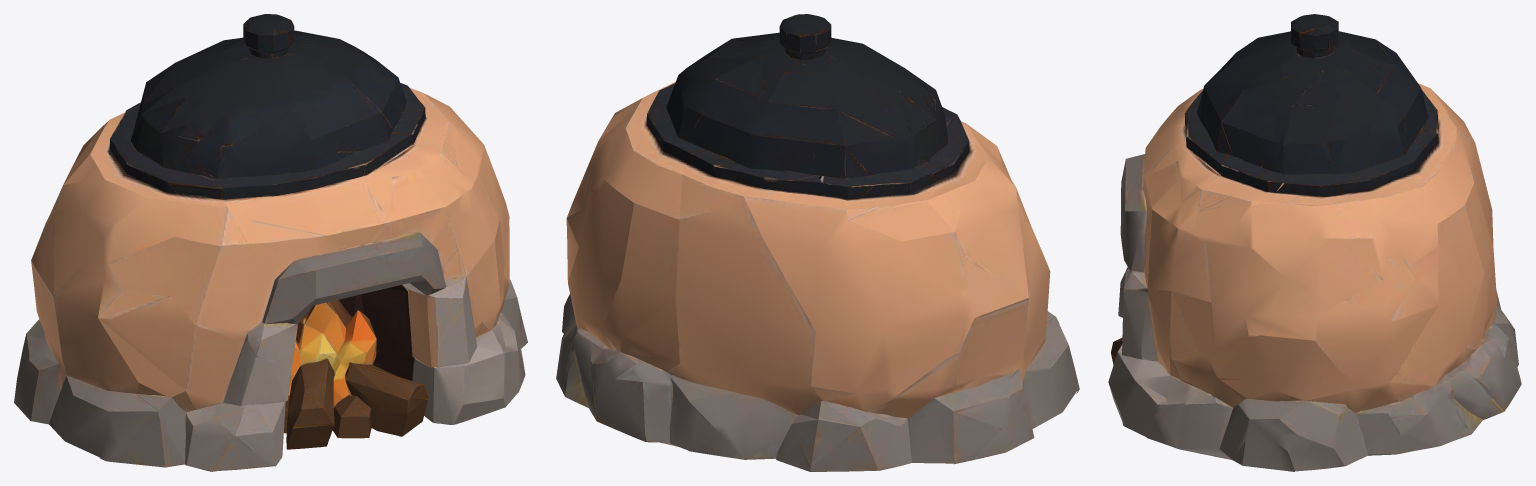
File: stove.glb
3 renders of one model, left to right at view 1: azimuth 30°, elevation 25°; view 2: azimuth 150°, elevation 25°; view 3: azimuth 270°, elevation 25°, orthographic. The views are drawn at different scales.
Parts seen in each view (by area): view 1: Mesh_0; view 2: Mesh_0; view 3: Mesh_0.
Boxes of the visible parts, x1,y1,x2,y2 form: Mesh_0: (14,14,527,471); Mesh_0: (556,14,1079,471); Mesh_0: (1108,14,1521,471).
Bounding box in the file's own units: 2 × 1.43 × 1.58.
Materials: 1 (1 with a texture image).
